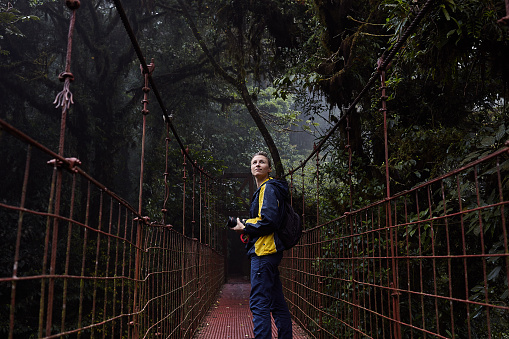em pe: (224, 146, 294, 339)
